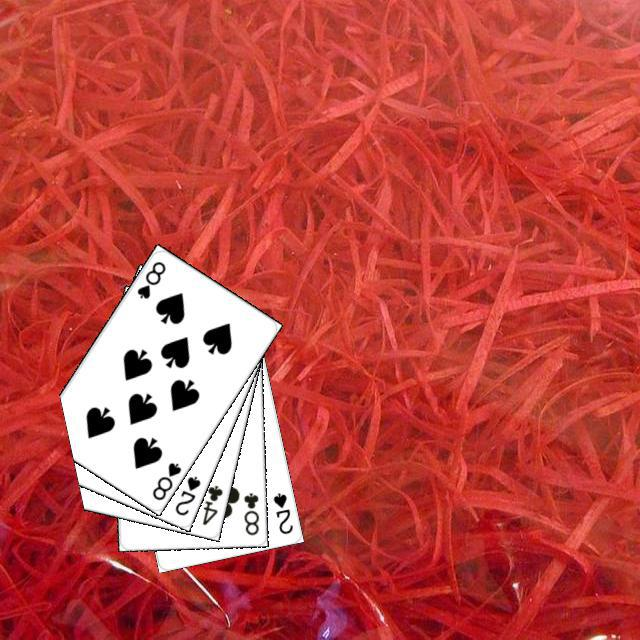2s: (170, 471, 202, 517), (268, 488, 295, 536)
4c: (197, 480, 224, 527)
8c: (239, 488, 261, 537)
8s: (147, 457, 183, 502), (132, 256, 168, 301)
